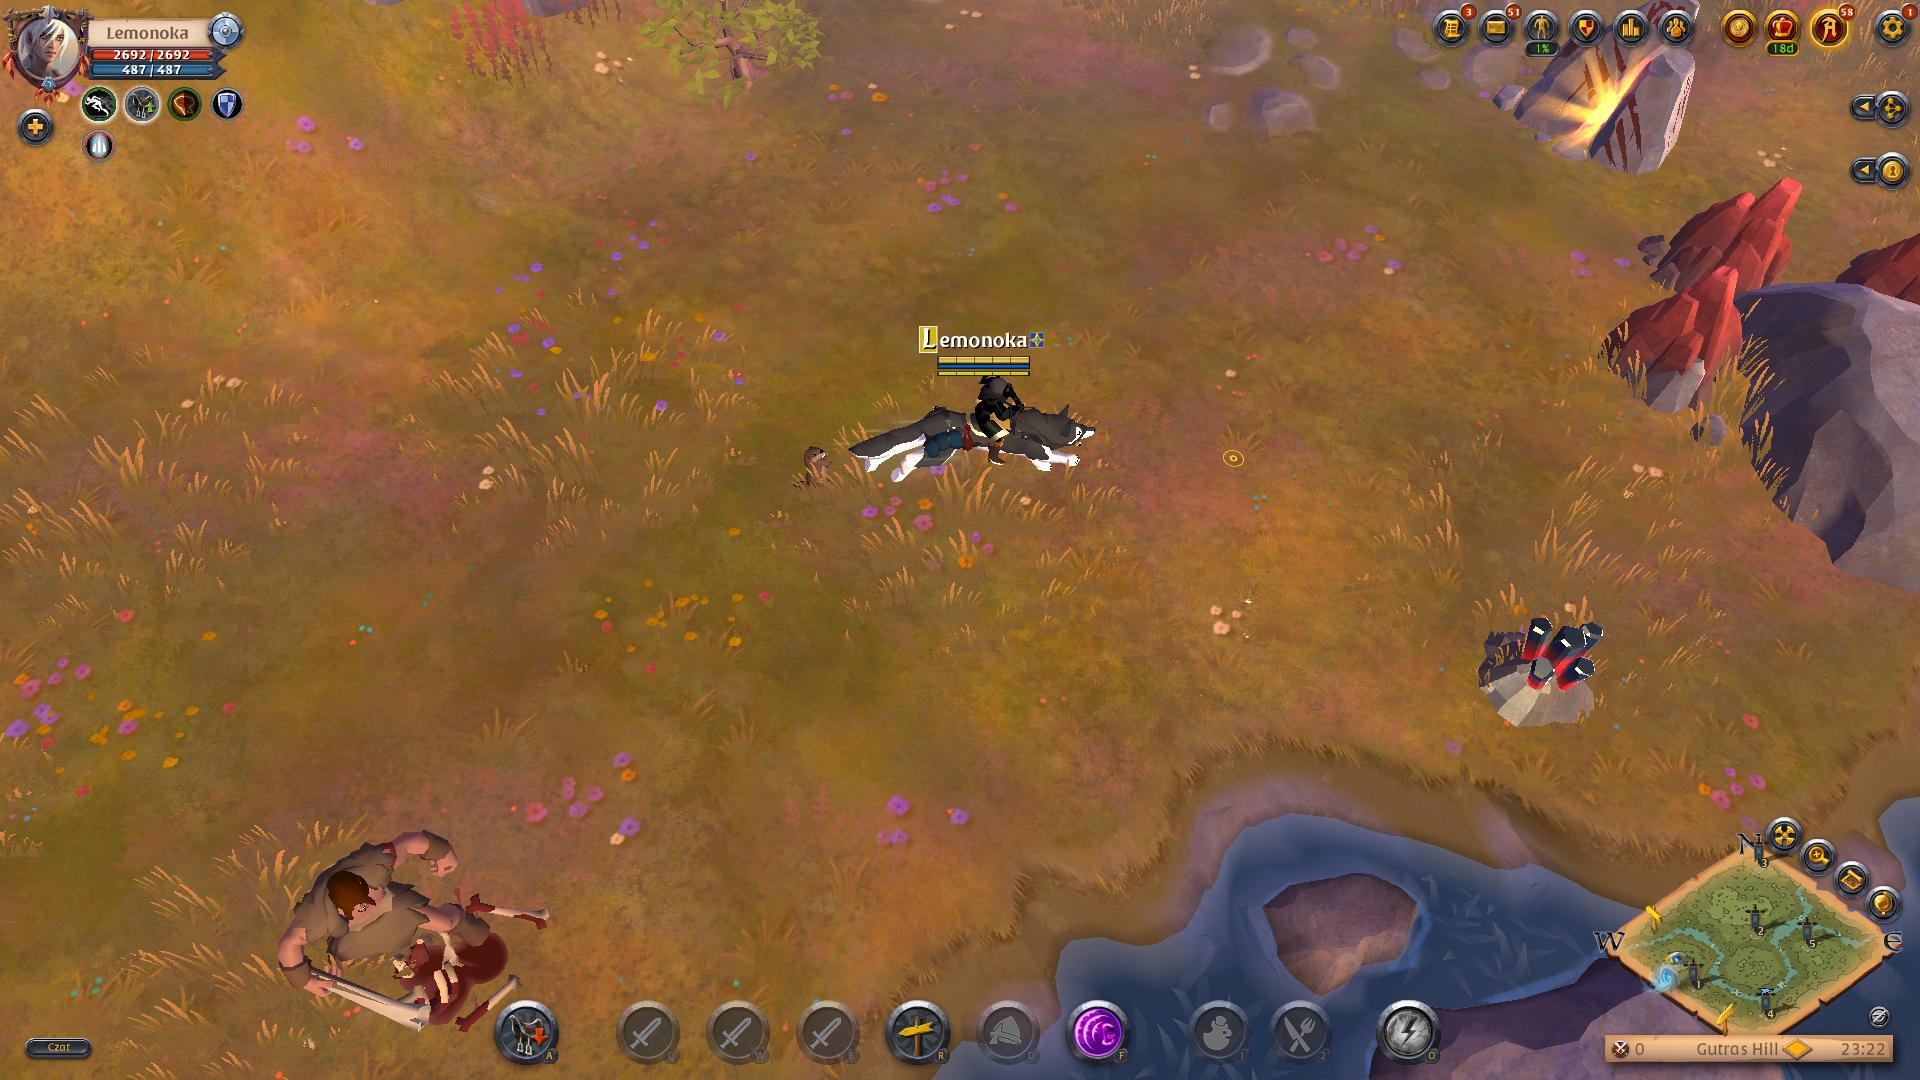ore tier 5: (1482, 611, 1604, 733)
rock tier 5: (1604, 261, 1749, 430), (1640, 171, 1805, 318)
